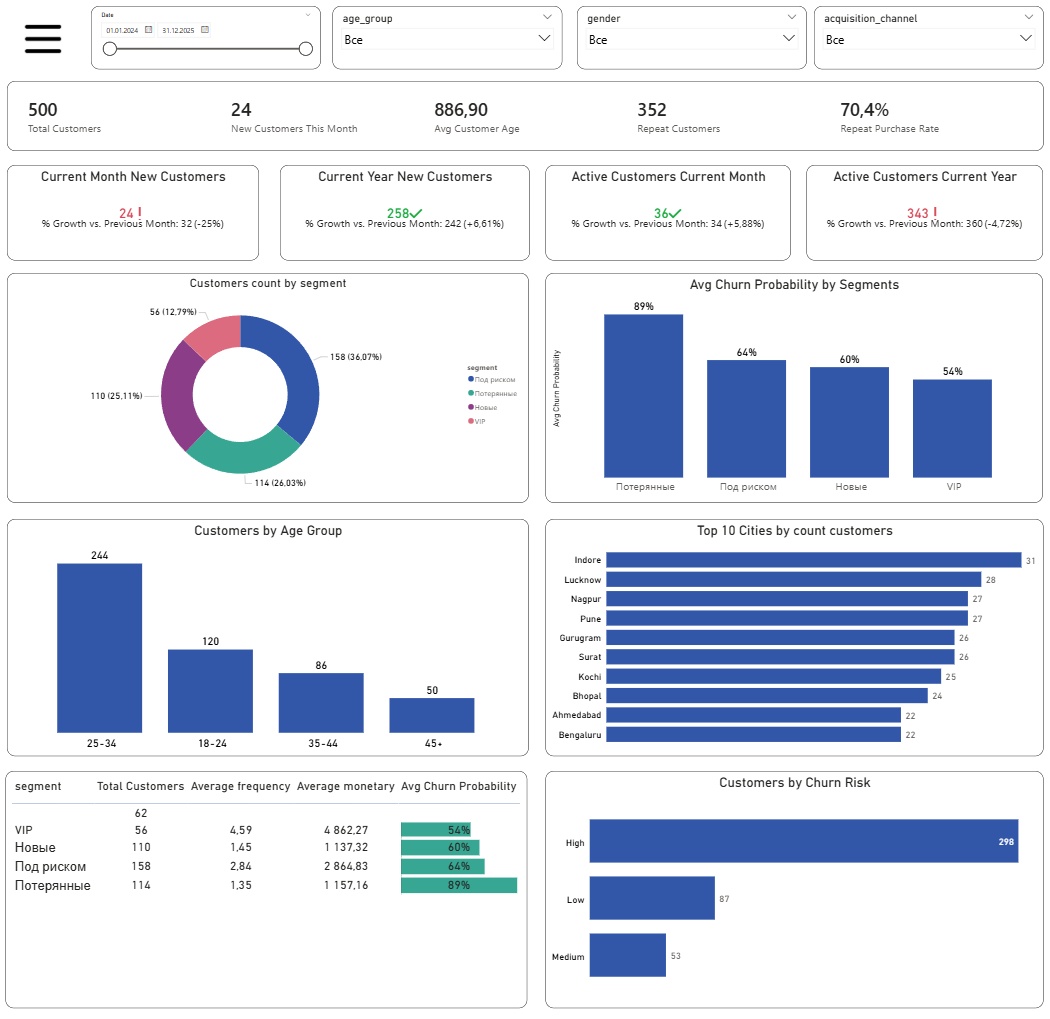

The dashboard page shown, as its layout file describes it:
{"tool":"powerbi","page":{"name":"Customers","canvas":[1920,2000],"ordinal":1},"visuals":[{"type":"cardVisual","fields":{"Data":["Customers.Total Customers","Customers.New Customers This Month","Customers.Avg Customer Age","Customers.Repeat Customers","Customers.Repeat Purchase Rate"]},"box":[26,158,1868,126],"z":0},{"type":"columnChart","title":"Average Churn Probability by Segments","fields":{"Category":["rfm_segments.segment"],"Y":["churn_results.Avg Churn Probability"]},"box":[998,504,896,414],"z":1000},{"type":"columnChart","title":"Customers by Age Group","fields":{"Y":["CountNonNull(Customers.customer_id)"],"Category":["Customers.age_group"]},"box":[27.5,945,940,427.5],"z":2000},{"type":"barChart","title":"Customers by Churn Risk","fields":{"Y":["CountNonNull(churn_results.customer_id)"],"Category":["churn_results.Churn Risk Bucket"]},"box":[997.5,1400,897.5,427.5],"z":3000},{"type":"slicer","fields":{"Values":["Customers.age_group"]},"box":[614,22,414,114],"z":4000},{"type":"kpi","title":"Current Month New Customers","fields":{"Goal":["Customers.New Customers Previous Month"],"TrendLine":["Orders.order_date"],"Indicator":["Customers.New Customers Current Month"]},"box":[26,308,454,172],"z":5000},{"type":"kpi","title":"Active Customers Current Year","fields":{"TrendLine":["Orders.order_date"],"Goal":["Customers.Active Customers Previous Year"],"Indicator":["Customers.Active Customers Current Year"]},"box":[1468,308,426,172],"z":6000},{"type":"slicer","fields":{"Values":["Customers.gender"]},"box":[1054,22,414,114],"z":7000},{"type":"slicer","fields":{"Values":["Customers.acquisition_channel"]},"box":[1480,22,414,114],"z":8000},{"type":"kpi","title":"Current Year New Customers","fields":{"Goal":["Customers.New Customers Previous Year"],"TrendLine":["Orders.order_date"],"Indicator":["Customers.New Customers Current Year"]},"box":[518,308,450,172],"z":9000},{"type":"kpi","title":"Active Customers Current Month","fields":{"TrendLine":["Orders.order_date"],"Indicator":["Customers.Active Customers Current Month"],"Goal":["Customers.Active Customers Previous Month"]},"box":[998,308,442,172],"z":10000},{"type":"slicer","fields":{"Values":["Calendar.Date"]},"box":[178,22,414,114],"z":11000},{"type":"image","box":[26,34,132,90],"z":12000},{"type":"actionButton","box":[1566,1308,100,40],"z":15000},{"type":"donutChart","title":"Customers by Segment","fields":{"Category":["rfm_segments.segment"],"Y":["CountNonNull(rfm_segments.customer_id)"]},"box":[28,504,940,414],"z":17000},{"type":"barChart","title":"Top 10 Cities by count customers","fields":{"Y":["CountNonNull(churn_results.customer_id)"],"Category":["Customers.city"]},"box":[997.5,945,897.5,427.5],"z":18000},{"type":"tableEx","title":"Revenue by categories","fields":{"Values":["rfm_segments.segment","Customers.Total Customers","Avg(rfm_segments.frequency)","rfm_segments.monetary","churn_results.Avg Churn Probability"]},"box":[25,1400,940,427.5],"z":19000}]}

Visuals, with their boxes on the page's 1920x2000 design canvas (x1, y1, x2, y2). These are canvas units, not pixel positions in the 1050x1019 screenshot, which may show the page scaled, cropped or inside an application window:
cardVisual - Customers.Total Customers x Customers.New Customers This Month: region(26, 158, 1894, 284)
"Average Churn Probability by Segments" columnChart: region(998, 504, 1894, 918)
"Customers by Age Group" columnChart: region(28, 945, 968, 1372)
"Customers by Churn Risk" barChart: region(998, 1400, 1895, 1828)
slicer - Customers.age_group: region(614, 22, 1028, 136)
"Current Month New Customers" kpi: region(26, 308, 480, 480)
"Active Customers Current Year" kpi: region(1468, 308, 1894, 480)
slicer - Customers.gender: region(1054, 22, 1468, 136)
slicer - Customers.acquisition_channel: region(1480, 22, 1894, 136)
"Current Year New Customers" kpi: region(518, 308, 968, 480)
"Active Customers Current Month" kpi: region(998, 308, 1440, 480)
slicer - Calendar.Date: region(178, 22, 592, 136)
image: region(26, 34, 158, 124)
actionButton: region(1566, 1308, 1666, 1348)
"Customers by Segment" donutChart: region(28, 504, 968, 918)
"Top 10 Cities by count customers" barChart: region(998, 945, 1895, 1372)
"Revenue by categories" tableEx: region(25, 1400, 965, 1828)
